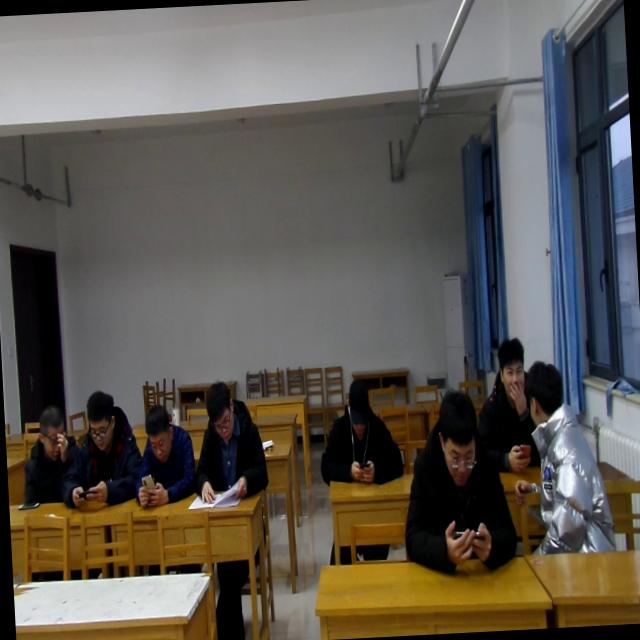down: (432, 386, 483, 488), (202, 378, 237, 447), (84, 385, 119, 453), (341, 378, 373, 442), (140, 401, 172, 463)
lookup: (492, 332, 526, 394)
sit: (398, 390, 522, 579), (508, 354, 618, 556), (189, 379, 270, 505), (59, 389, 143, 509), (314, 380, 406, 489), (474, 332, 544, 473), (128, 402, 198, 512), (19, 405, 88, 508)
